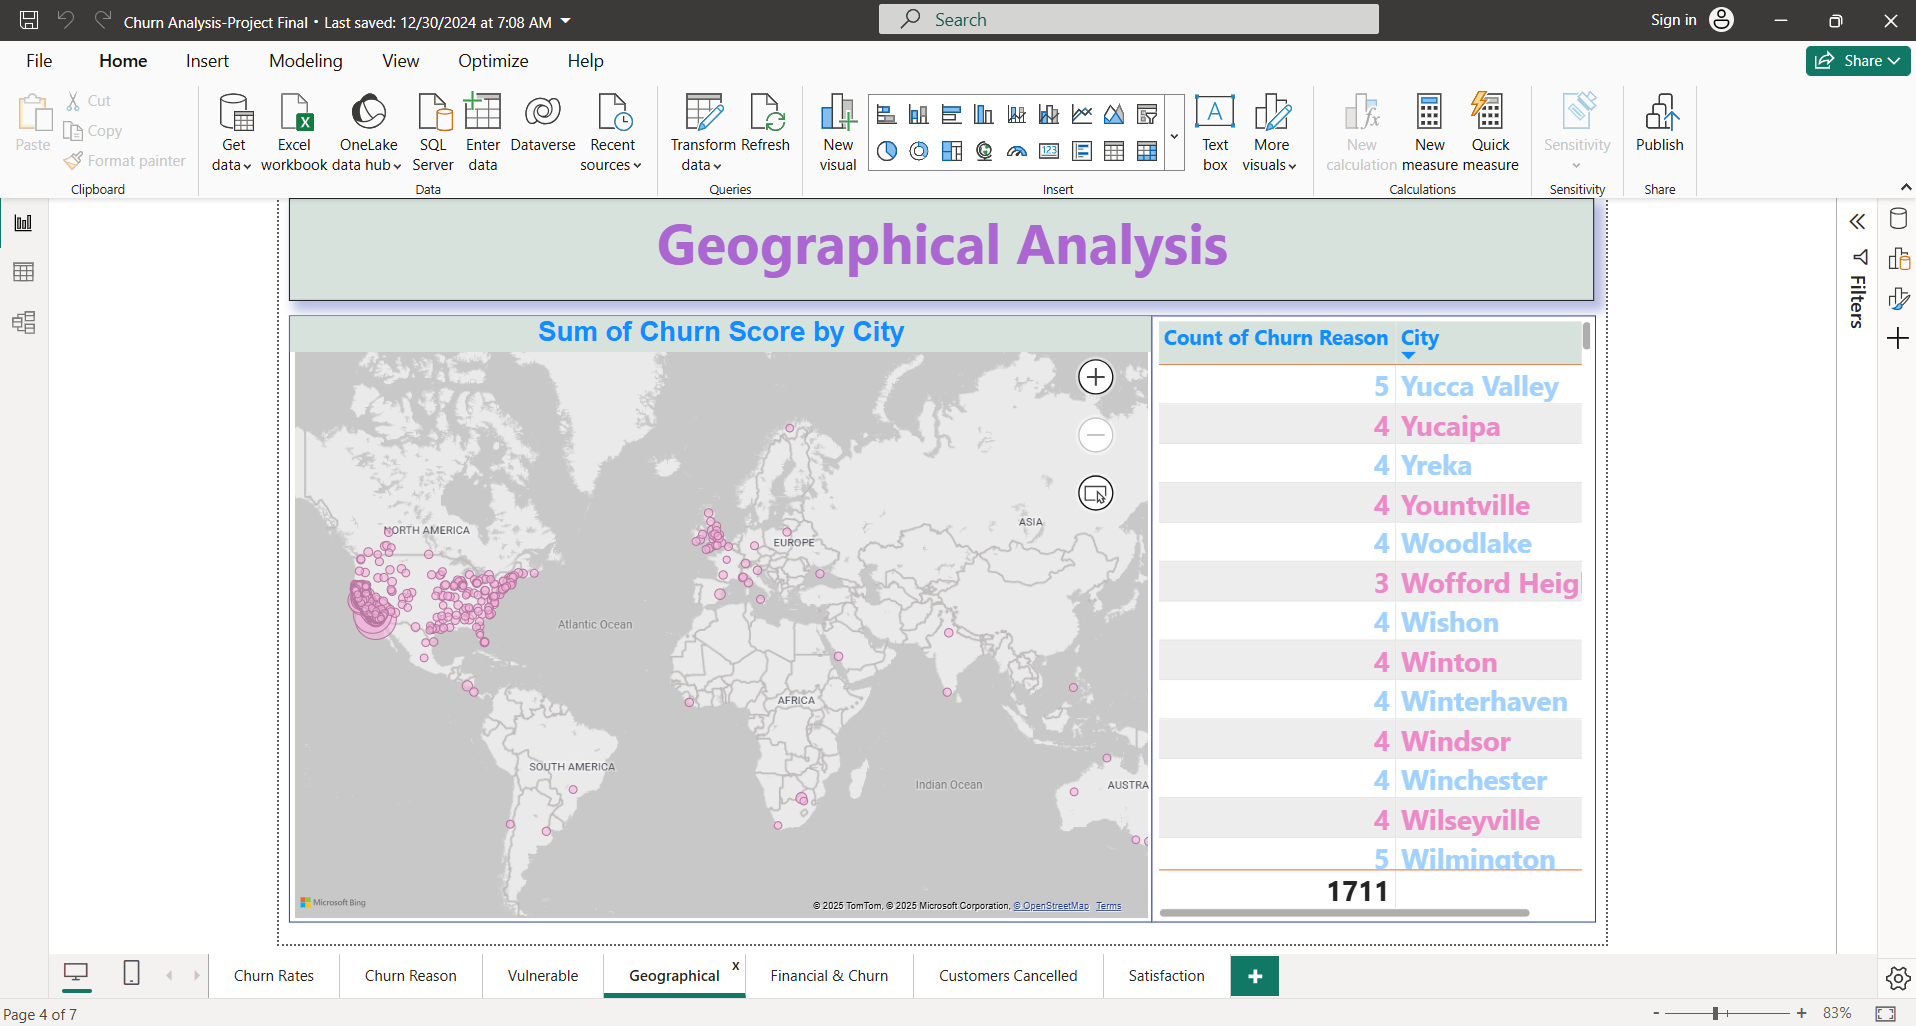

Layout of this report page (visuals, bound fields, positions):
{"tool":"powerbi","page":{"name":"Geographical","canvas":[1280,720],"ordinal":3},"visuals":[{"type":"textbox","box":[10.1,0,1259.5,99.6],"z":0},{"type":"map","title":"Sum of Churn Score by City","fields":{"Category":["Telcom_Dataset.City"],"Size":["Sum(Telcom_Dataset.Churn Score)"]},"box":[9.2,113.7,832.7,585.3],"z":1},{"type":"tableEx","title":"( B )","fields":{"Values":["Telcom_Dataset.Churn Reason","Telcom_Dataset.City1"]},"box":[841.9,113.7,428.6,585.3],"z":2}]}

Visuals, with their boxes on the page's 1280x720 design canvas (x1, y1, x2, y2). These are canvas units, not pixel positions in the 1916x1026 screenshot, which may show the page scaled, cropped or inside an application window:
textbox: {"x1": 10, "y1": 0, "x2": 1270, "y2": 100}
"Sum of Churn Score by City" map: {"x1": 9, "y1": 114, "x2": 842, "y2": 699}
"( B )" tableEx: {"x1": 842, "y1": 114, "x2": 1270, "y2": 699}
